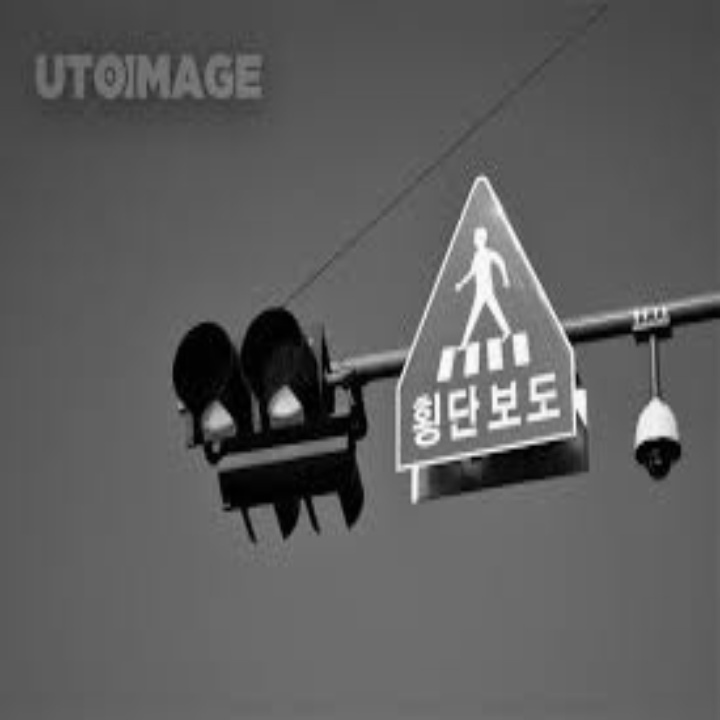cross: (405, 214, 567, 375)
